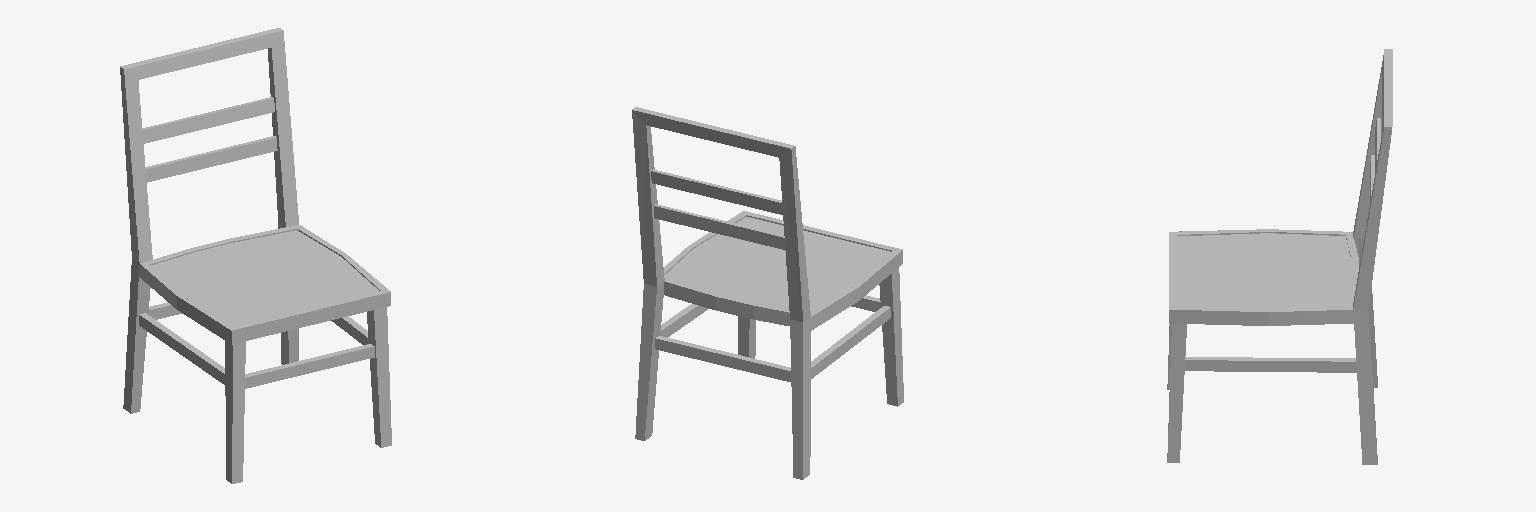
File: Chair07.obj
3 renders of one model, left to right at view 1: azimuth 30°, elevation 25°; view 2: azimuth 150°, elevation 25°; view 3: azimuth 270°, elevation 25°, orthographic.
Parts seen in each view (by area): view 1: Chair07_LOD0_Chair2.003; view 2: Chair07_LOD0_Chair2.003; view 3: Chair07_LOD0_Chair2.003.
Boxes of the visible parts, x1,y1,x2,y2 form: Chair07_LOD0_Chair2.003: [120, 28, 391, 483]; Chair07_LOD0_Chair2.003: [632, 107, 903, 479]; Chair07_LOD0_Chair2.003: [1167, 49, 1392, 464].
Size of the model in its own units: 0.509 by 0.9591 by 0.5834.